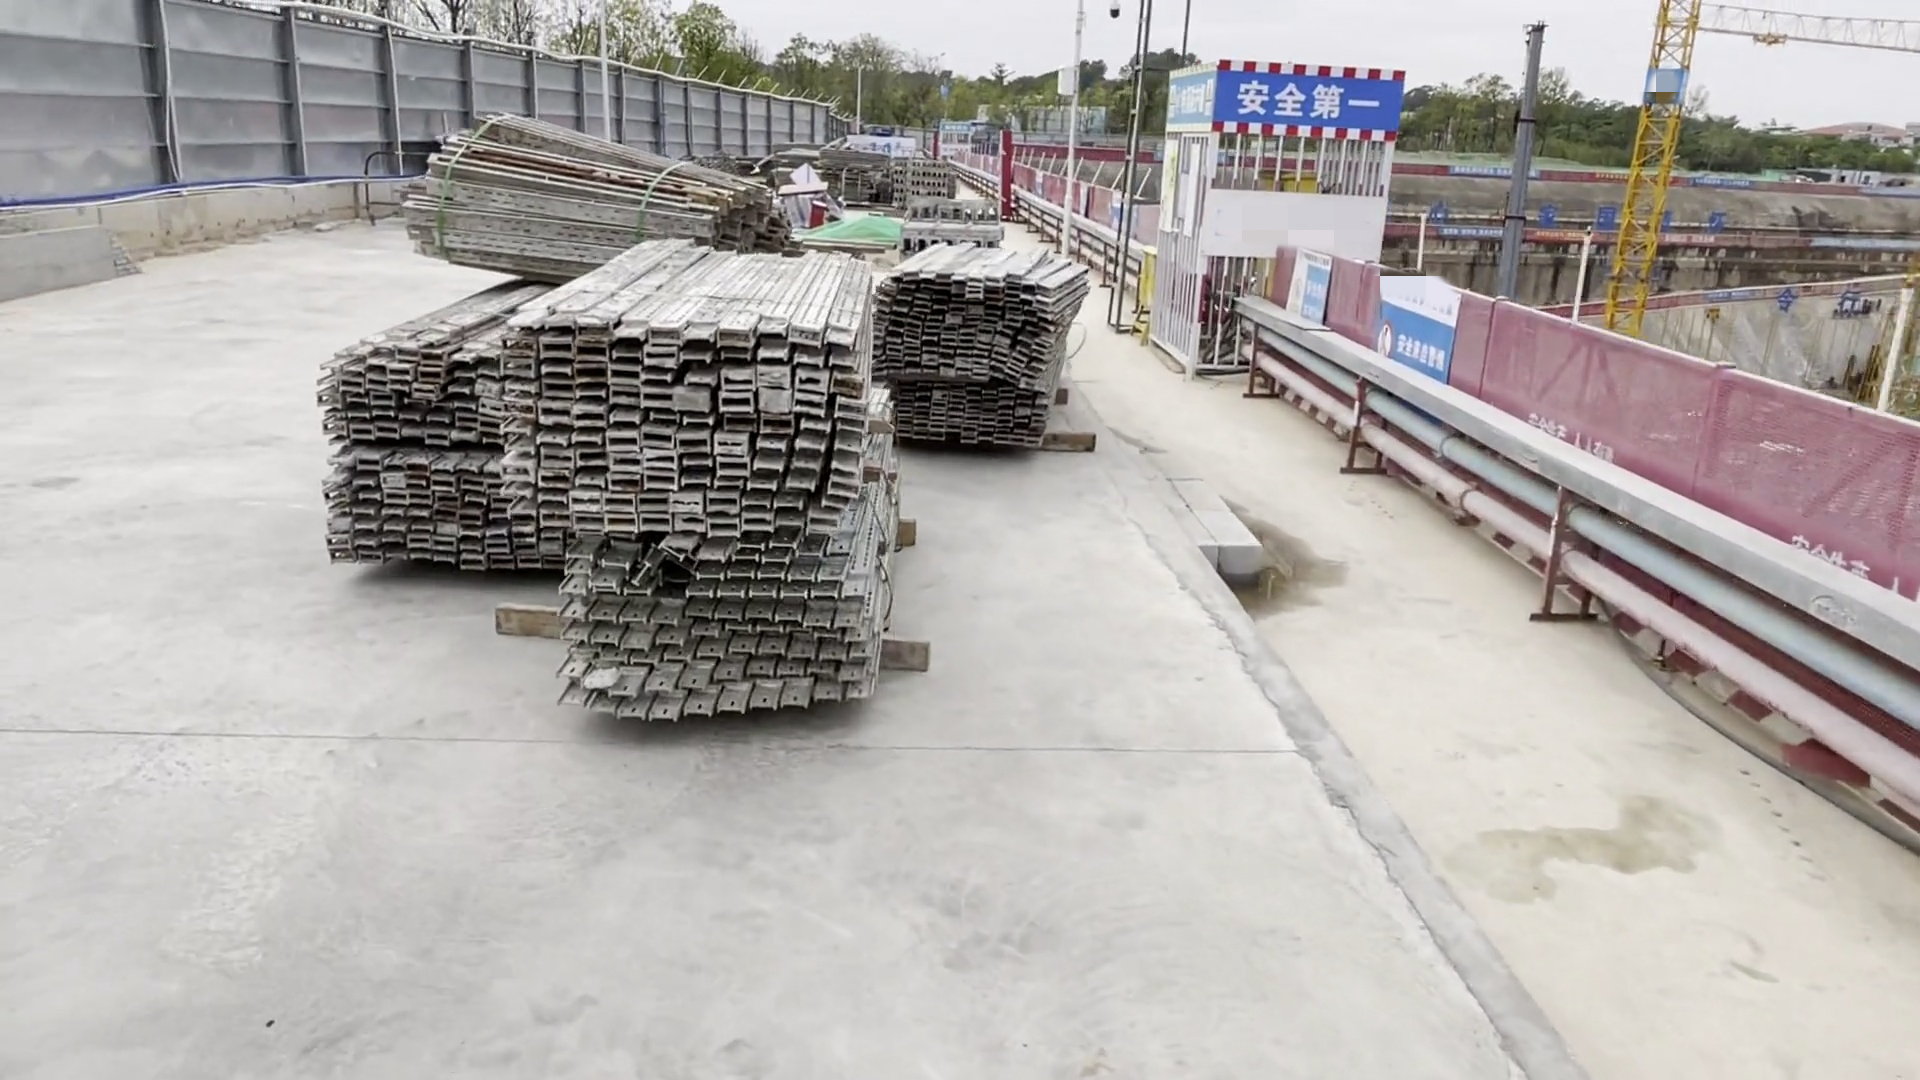fence: (1269, 251, 1920, 843)
slogan: (1211, 59, 1408, 140), (1371, 269, 1468, 386)
